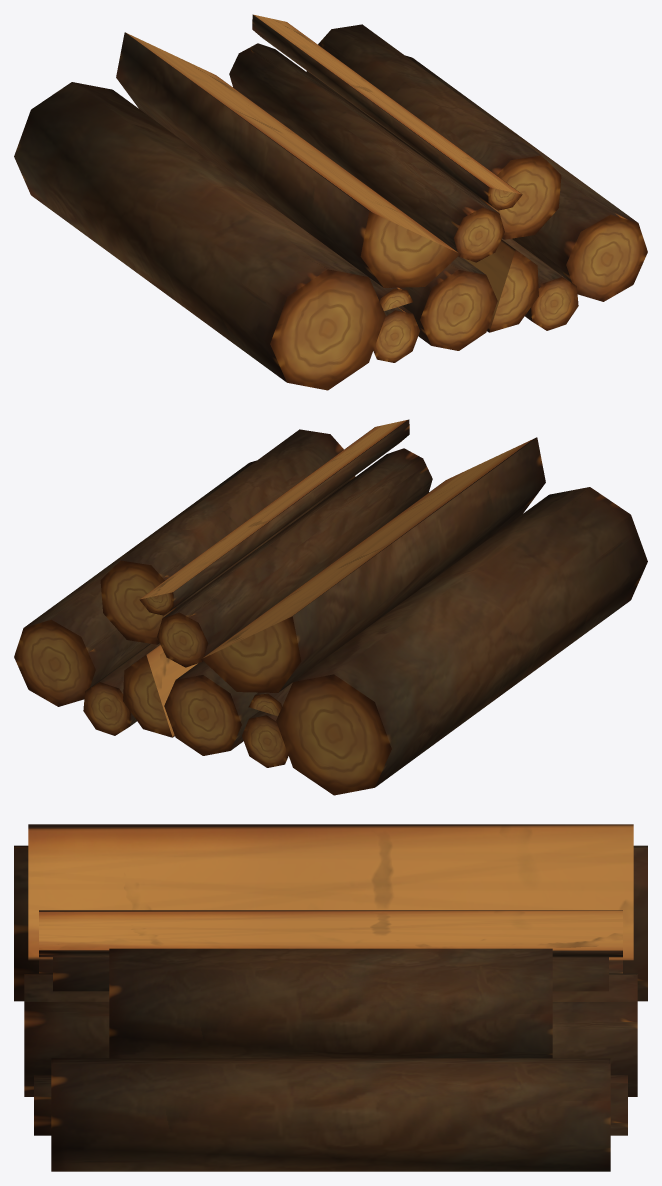
The model's file is logpile.fbx.
The picture shows the model from 3 angles, top to bottom: view 1: azimuth 30°, elevation 25°; view 2: azimuth 150°, elevation 25°; view 3: azimuth 270°, elevation 25°; orthographic projection. The views are drawn at different scales.
Parts seen in each view (by area): view 1: logpile; view 2: logpile; view 3: logpile.
Part boxes in pixels (x1=…): logpile: x1=14, y1=14, x2=647, y2=390; logpile: x1=14, y1=419, x2=647, y2=795; logpile: x1=14, y1=824, x2=647, y2=1171.
Bounding box in the file's own units: 1011 × 407 × 1141.
